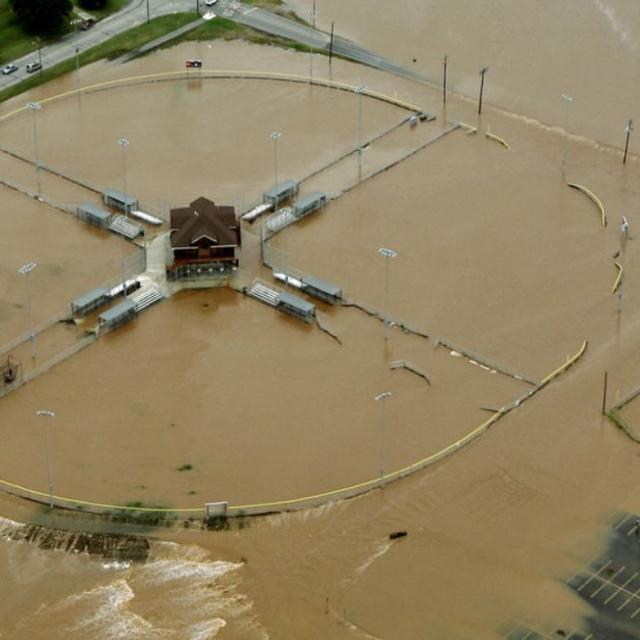flooded_areas: (0, 51, 579, 607)
